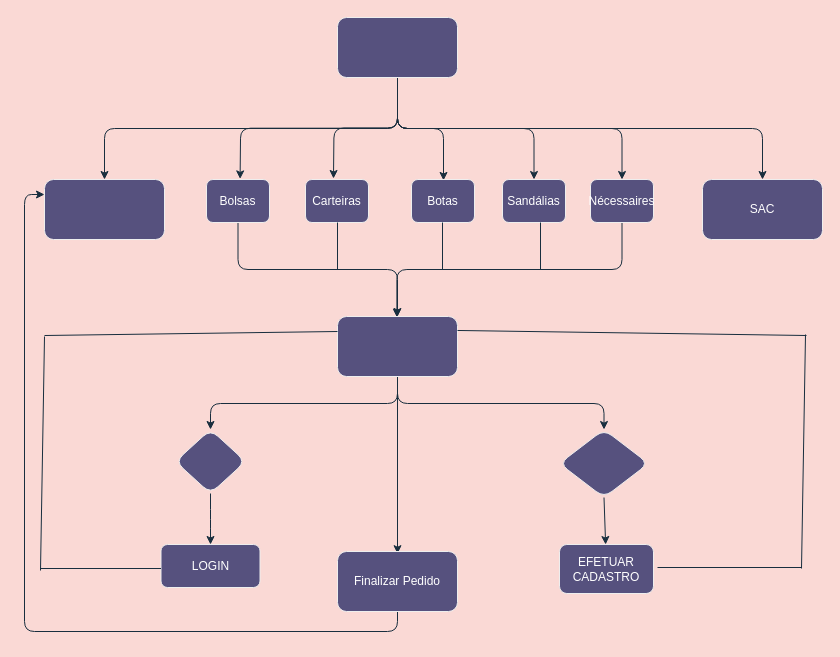
Image size: 840x657. Some labels were removed from this diagram. The shapes that lost their labels are listed below. From the top down, each one's centre as x and y in pixels, then its label:
point 397,47: HOME PAGE FASHIONGIRL
point 104,209: Meus Pedidos
point 397,346: Carrinho
point 210,461: Cadastro Sim
point 603,463: Não Possuí Cadastro
